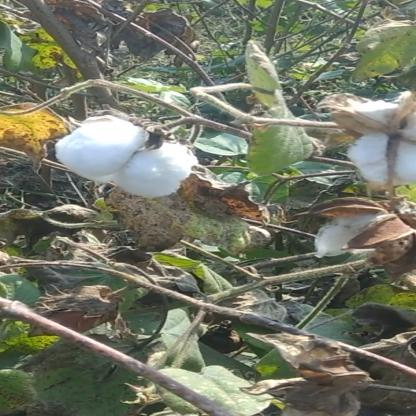cotton_ready: (43, 104, 202, 198)
